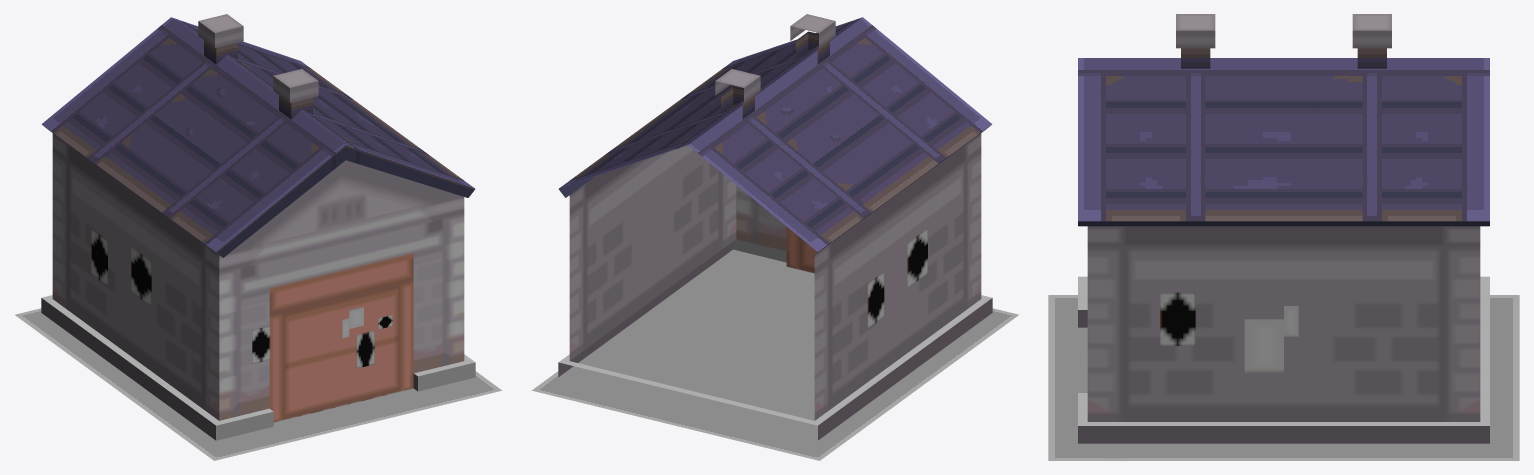
The picture shows the model from 3 angles, left to right: view 1: azimuth 30°, elevation 25°; view 2: azimuth 150°, elevation 25°; view 3: azimuth 270°, elevation 25°; orthographic projection. The views are drawn at different scales.
Visible parts, largest first — view 1: polygon1, polygon0, polygon2; view 2: polygon1, polygon0, polygon2; view 3: polygon1, polygon0, polygon2.
Part boxes in pixels (bbox=[...]): polygon1: bbox=[41, 14, 475, 440]; polygon0: bbox=[41, 17, 475, 257]; polygon2: bbox=[15, 308, 501, 460]; polygon1: bbox=[558, 14, 992, 440]; polygon0: bbox=[558, 17, 992, 255]; polygon2: bbox=[532, 249, 1018, 460]; polygon1: bbox=[1078, 14, 1489, 443]; polygon0: bbox=[1078, 48, 1489, 226]; polygon2: bbox=[1048, 295, 1519, 460].
Size of the model in its own units: 5 by 5 by 6.
